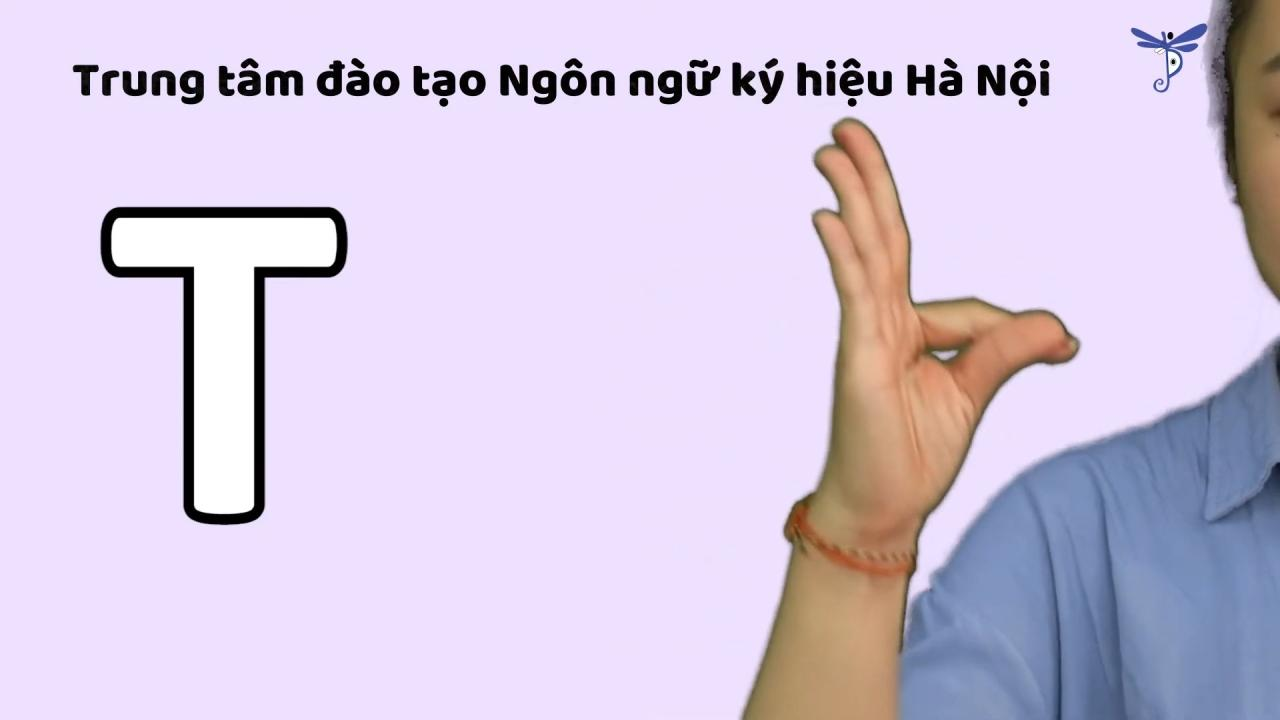T: (779, 100, 1094, 547)
